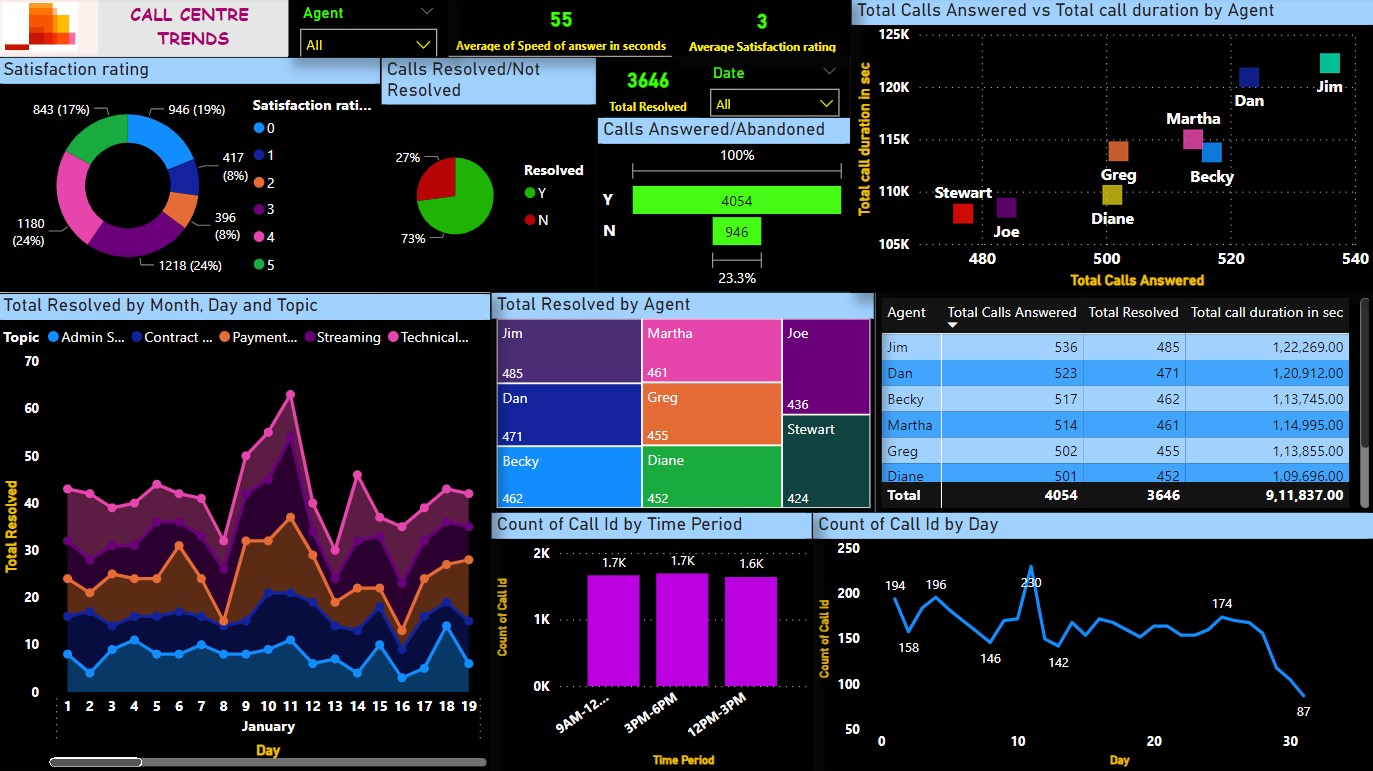

The dashboard page shown, as its layout file describes it:
{"tool":"powerbi","page":{"name":"Dashboard","canvas":[1280,720],"ordinal":1},"visuals":[{"type":"pivotTable","fields":{"Values":["Sheet1.Total Calls Answered","Sheet1.Total Resolved","Sheet1.Total call duration in sec"],"Rows":["Sheet1.Agent"]},"box":[816.3,274.4,464,204.7],"z":0},{"type":"donutChart","title":"Satisfaction rating","fields":{"Y":["Sheet1.Satisfaction rating"],"Series":["Sheet1.Satisfaction rating"]},"box":[0,55.8,357,218.6],"z":1000},{"type":"pieChart","title":"Calls Resolved/Not Resolved","fields":{"Category":["Sheet1.Resolved"],"Y":["Sheet1.Resolved"]},"box":[357,55.8,201.2,218.6],"z":2000},{"type":"treemap","fields":{"Group":["Sheet1.Agent"],"Values":["Sheet1.Total Resolved"]},"box":[459.3,274.4,357,204.7],"z":3000},{"type":"lineChart","fields":{"Category":["Sheet1.Date.Variation.Date Hierarchy.Day"],"Y":["Sheet1.Call Id"]},"box":[758.1,479.1,522.1,240.7],"z":4000},{"type":"scatterChart","title":"Total Calls Answered vs Total call duration by Agent","fields":{"X":["Sheet1.Total Calls Answered"],"Series":["Sheet1.Agent"],"Y":["Sheet1.Total seconds"]},"box":[794.2,1.2,486,273.3],"z":5000},{"type":"clusteredColumnChart","fields":{"Y":["Sheet1.Call Id"],"Category":["Sheet1.Time Period"]},"box":[459.3,479.1,298.8,240.7],"z":6000},{"type":"card","fields":{"Values":["Sheet1.Speed of answer in seconds"]},"box":[419.8,0,208.1,54.7],"z":7000},{"type":"card","fields":{"Values":["Sheet1.Total Resolved"]},"box":[558.1,55.8,94.2,55.8],"z":8000},{"type":"funnel","title":"Calls Answered/Abandoned","fields":{"Category":["Sheet1.Answered (Y/N)"],"Y":["Sheet1.Answered (Y/N)"]},"box":[558.1,111.6,236,162.8],"z":9000},{"type":"slicer","fields":{"Values":["Sheet1.Agent"]},"box":[270.9,0,148.8,55.8],"z":10000},{"type":"slicer","title":"Date","fields":{"Values":["Sheet1.Date.Variation.Date Hierarchy.Month","Sheet1.Date.Variation.Date Hierarchy.Day"]},"box":[652.3,55.8,141.9,55.8],"z":11000},{"type":"card","fields":{"Values":["Sheet1.Satisfaction rating"]},"box":[627.9,1.2,166.3,54.7],"z":12000},{"type":"stackedAreaChart","fields":{"Category":["Sheet1.Date.Variation.Date Hierarchy.Month","Sheet1.Date.Variation.Date Hierarchy.Day"],"Series":["Sheet1.Topic"],"Y":["Sheet1.Total Resolved"]},"box":[0,275.6,459.3,444.2],"z":13000},{"type":"textbox","box":[94.2,0,176.7,54.7],"z":15000},{"type":"image","box":[0,0,80.2,55.8],"z":15001}]}

Visuals, with their boxes in screenshot pixels (x1, y1, x2, y2), scaled from the page's 1280x720 canvas onto the 1373x771 screenshot:
pivotTable - Sheet1.Total Calls Answered x Sheet1.Total Resolved: bbox=(876, 294, 1372, 513)
"Satisfaction rating" donutChart: bbox=(0, 60, 383, 294)
"Calls Resolved/Not Resolved" pieChart: bbox=(383, 60, 599, 294)
treemap - Sheet1.Agent x Sheet1.Total Resolved: bbox=(493, 294, 876, 513)
lineChart - Sheet1.Date.Variation.Date Hierarchy.Day x Sheet1.Call Id: bbox=(813, 513, 1372, 770)
"Total Calls Answered vs Total call duration by Agent" scatterChart: bbox=(852, 1, 1372, 294)
clusteredColumnChart - Sheet1.Call Id x Sheet1.Time Period: bbox=(493, 513, 813, 770)
card - Sheet1.Speed of answer in seconds: bbox=(450, 0, 674, 59)
card - Sheet1.Total Resolved: bbox=(599, 60, 700, 120)
"Calls Answered/Abandoned" funnel: bbox=(599, 120, 852, 294)
slicer - Sheet1.Agent: bbox=(291, 0, 450, 60)
"Date" slicer: bbox=(700, 60, 852, 120)
card - Sheet1.Satisfaction rating: bbox=(674, 1, 852, 60)
stackedAreaChart - Sheet1.Date.Variation.Date Hierarchy.Month x Sheet1.Date.Variation.Date Hierarchy.Day: bbox=(0, 295, 493, 770)
textbox: bbox=(101, 0, 291, 59)
image: bbox=(0, 0, 86, 60)
